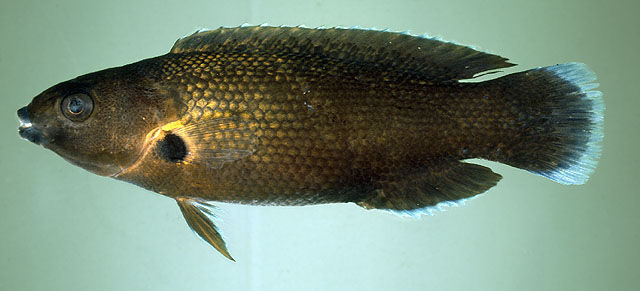fish: (15, 22, 604, 263)
